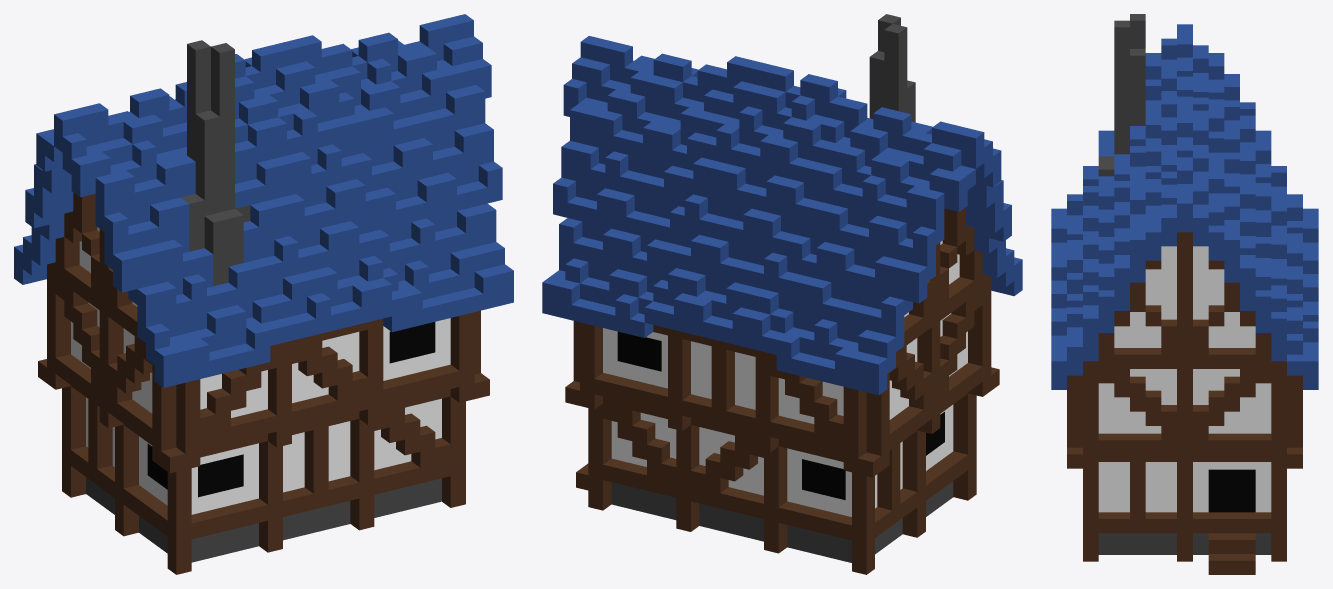
The model's file is house.fbx.
The picture shows the model from 3 angles, left to right: view 1: azimuth 30°, elevation 25°; view 2: azimuth 150°, elevation 25°; view 3: azimuth 270°, elevation 25°; orthographic projection. The views are drawn at different scales.
Visible parts, largest first — view 1: house1-0; view 2: house1-0; view 3: house1-0.
Part boxes in pixels (box(x1,y1,x2,y2)): house1-0: box(14, 14, 513, 574); house1-0: box(542, 14, 1022, 574); house1-0: box(1051, 14, 1318, 574).
Bounding box in the file's own units: 2700 × 3100 × 1700.
